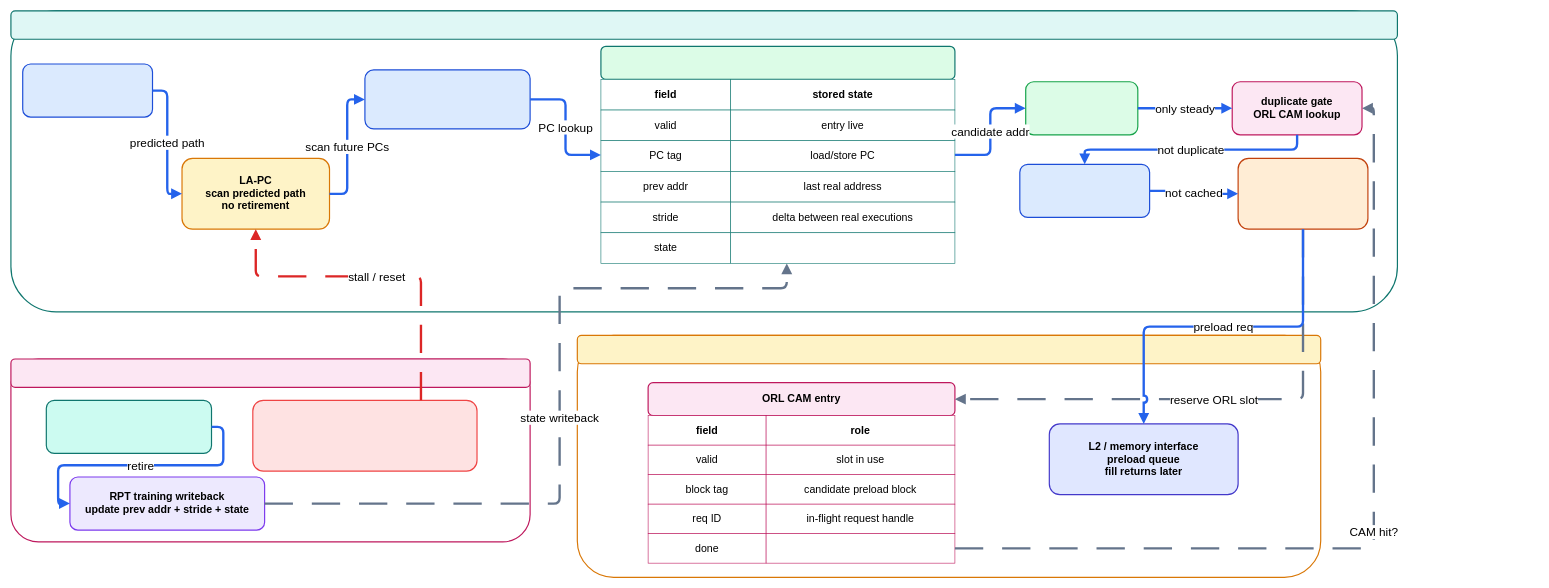
This 1549x588 diagram has some shape labels left out. The centre of each missing label's shape, as x and y in pixels:
"BTB / Branch Predictor future control path" belongs at point 87,90.
"cache tag check block absent" belongs at point 1084,190.
"clear when filled / killed" belongs at point 860,548.
"distance / redirect limits LA-limit d ORL full stall branch redirect reset" belongs at point 364,435.
"Future load / store PCs look-ahead scan window" belongs at point 447,99.
"initial / transient / steady / no prediction" belongs at point 842,247.
"Issue-Critical Datapath" belongs at point 704,25.
"Outstanding Request Tracking" belongs at point 948,349.
"preload issue allocate req send to memory" belongs at point 1302,194.
"retired load / store real addr appears" belongs at point 128,426.
"Retirement / Look-Ahead Limits" belongs at point 270,373.
"RPT entry" belongs at point 777,62.
"steady gate state == steady" belongs at point 1081,108.
